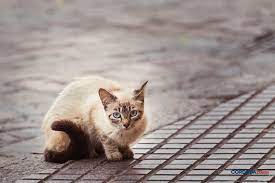cat: (37, 71, 163, 173)
